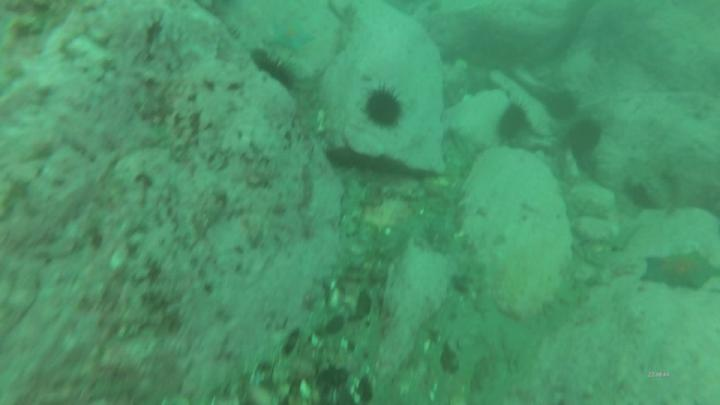holothurian: (639, 247, 719, 294)
starfish: (360, 85, 408, 132), (248, 48, 299, 91), (566, 116, 606, 159), (494, 101, 531, 145), (543, 88, 584, 123)
